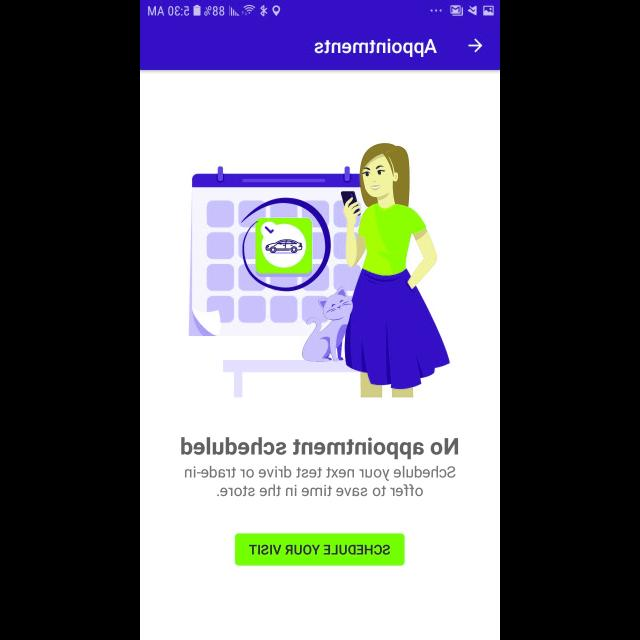icon: (468, 39, 482, 53)
image: (188, 142, 450, 398)
text: (184, 466, 456, 496), (180, 436, 458, 459), (314, 38, 438, 58)
textbutton: (235, 534, 405, 566)
uppertaskbar: (140, 1, 500, 18)
